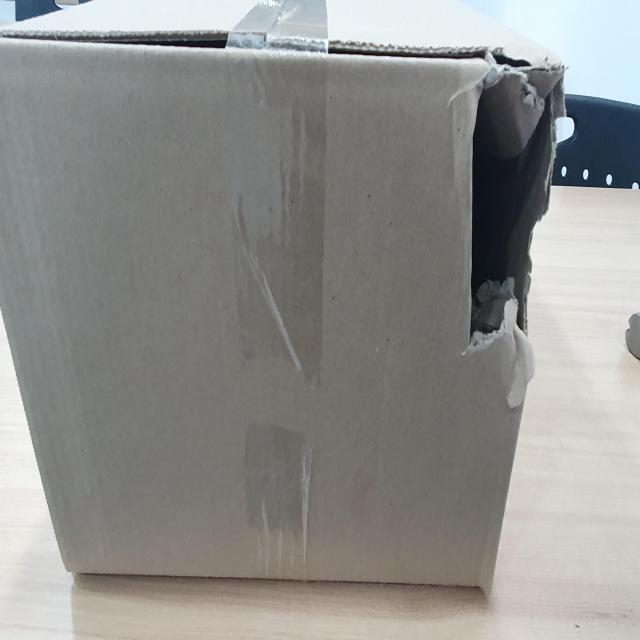damaged: (467, 40, 565, 382)
